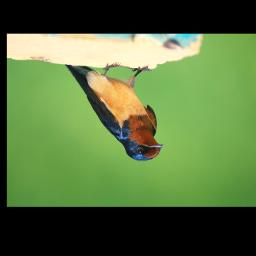Swallow: (64, 61, 165, 162)
